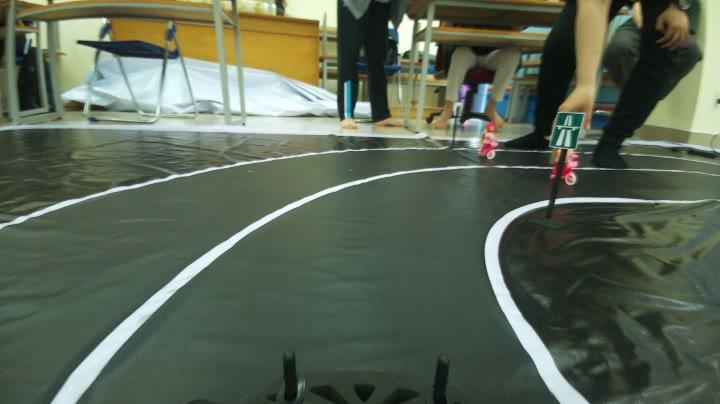highway_entry: (552, 111, 581, 151)
pedestrian: (548, 152, 583, 185), (476, 118, 502, 159)
